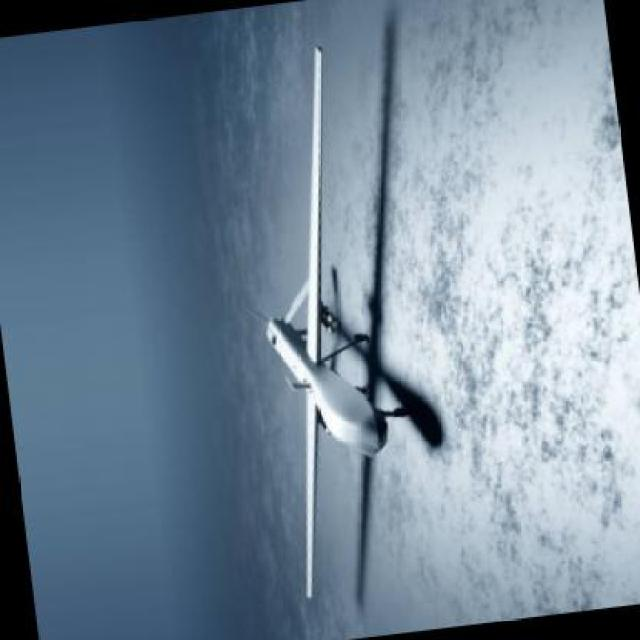iha: (261, 39, 417, 611)
